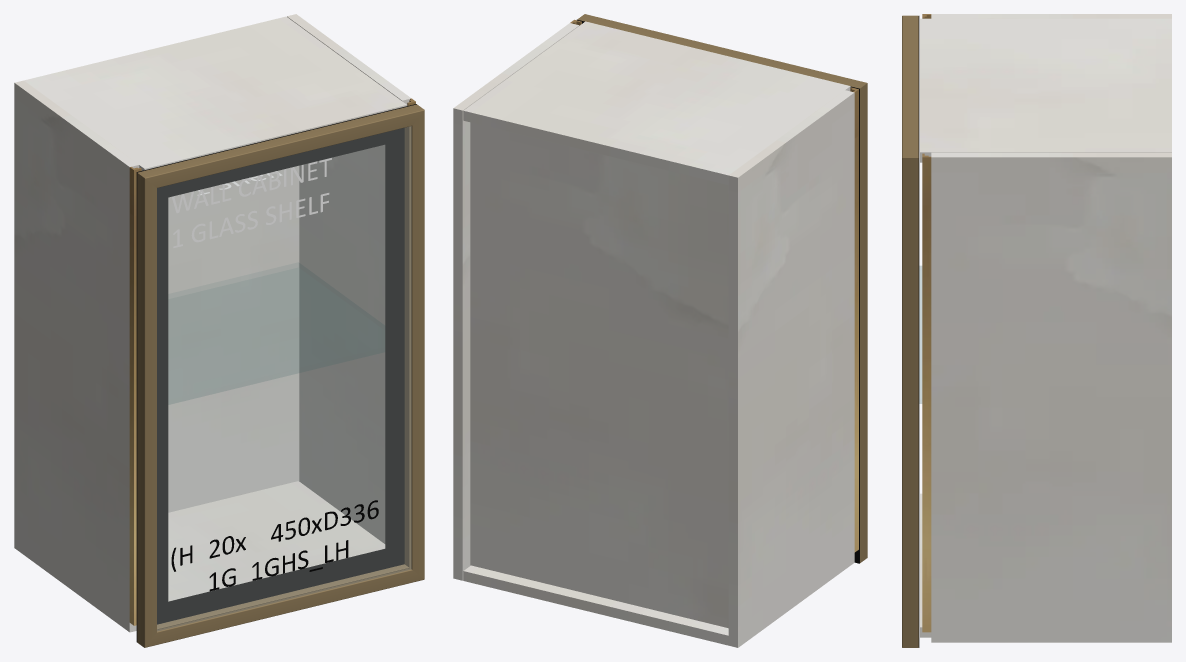
Rendered from WC1GS1GHS_LH (H720 XW450 XD336).glb.
3 renders of one model, left to right at view 1: azimuth 30°, elevation 25°; view 2: azimuth 150°, elevation 25°; view 3: azimuth 270°, elevation 25°, orthographic. The views are drawn at different scales.
Size of what is drawn, in the model's own units: 0.45 by 0.7185 by 0.366.
Materials: 8 (2 with a texture image).
